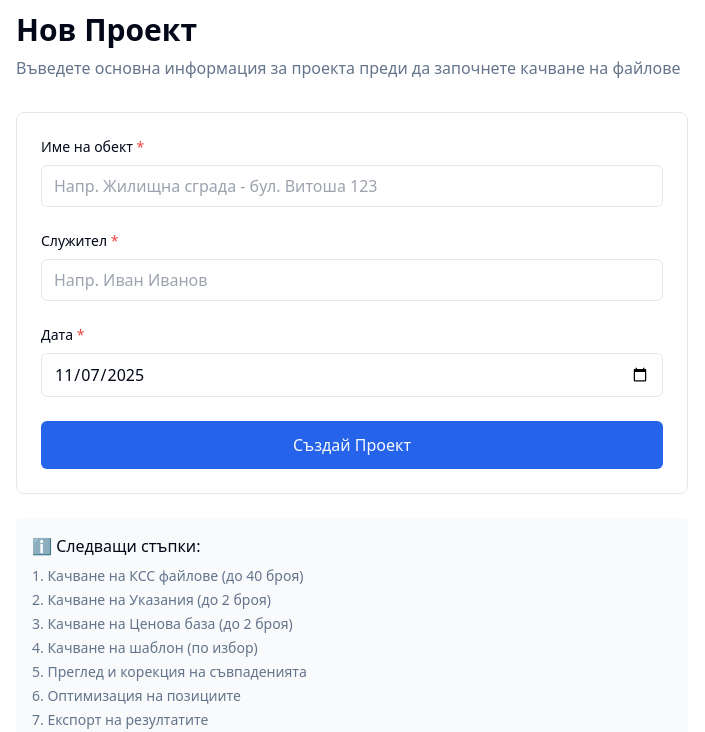
Test: SetupPage › disables submit button while submitting
Note: Fill in required fields
Type "Test" into the field labelled "Име на обект *" at {"x": 352, "y": 186}, box [41,165,663,207]
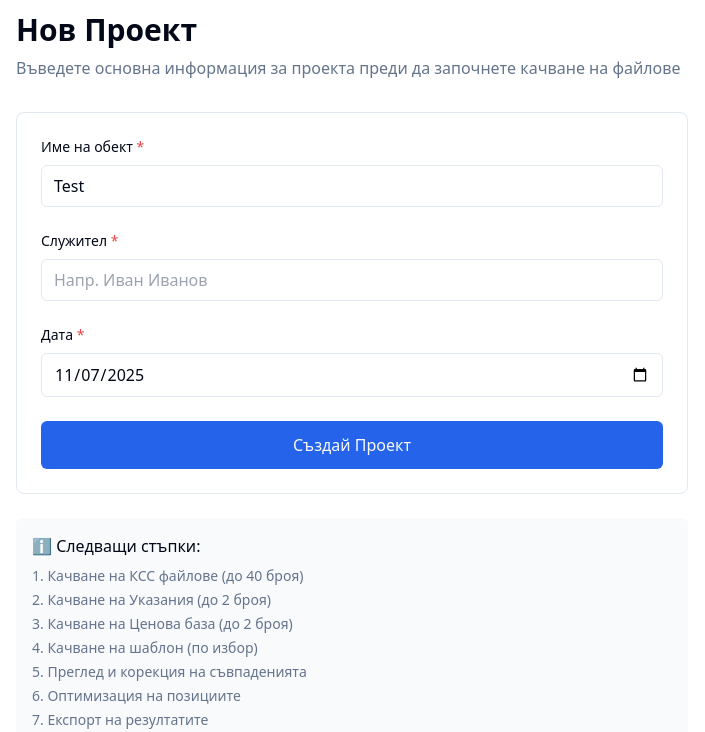
Type "Test" into the field labelled "Служител *" at {"x": 352, "y": 280}, box [41,259,663,301]
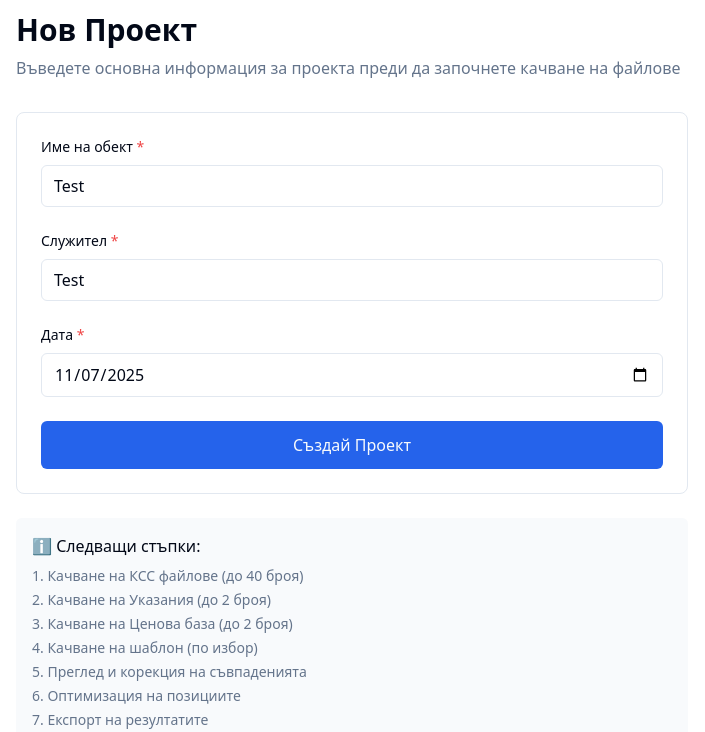
Note: Click submit
Click the button "Създай Проект" at {"x": 352, "y": 445}, box [41,421,663,469]
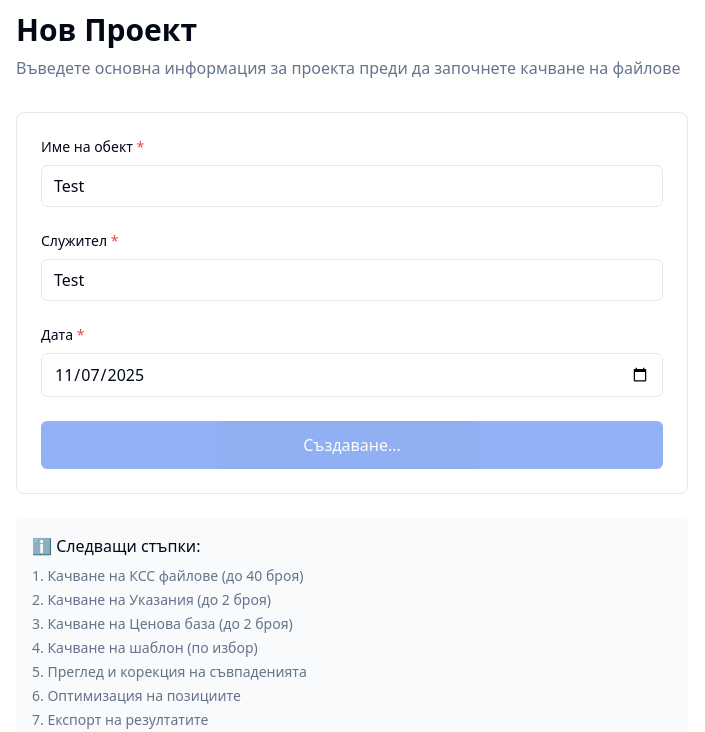
Check: the button named "Създай проект" is disabled, box [41,421,663,469]
